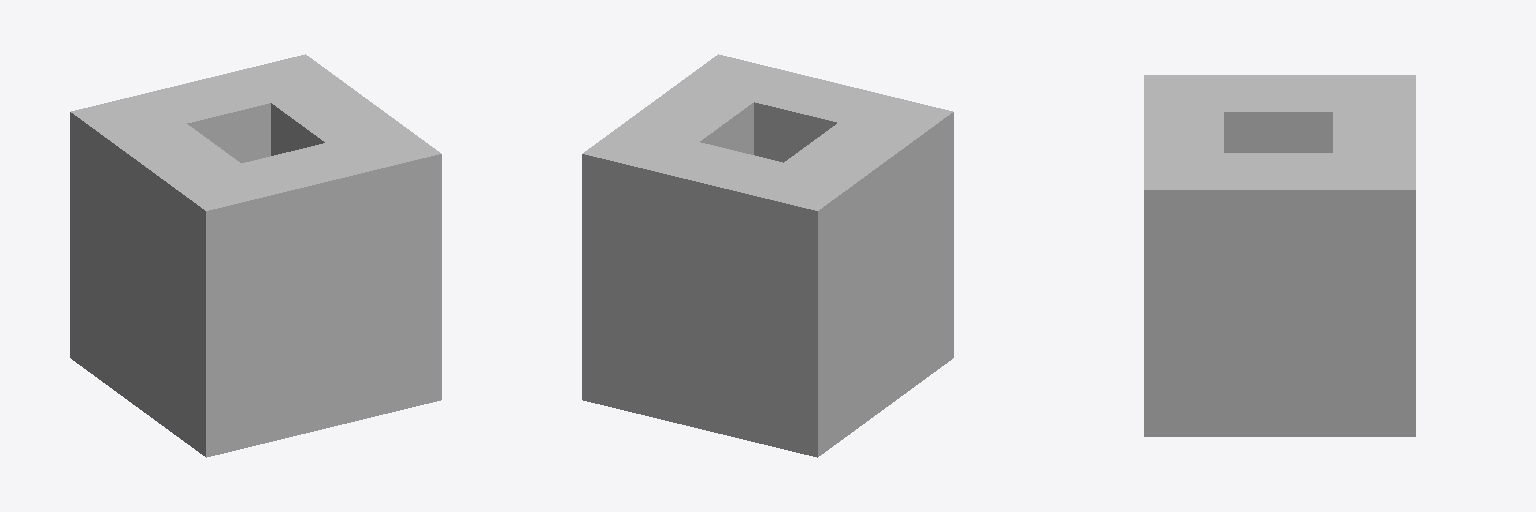
Rendered from simple_pit.obj.
3 views of the same model, side by side, from view 1: azimuth 30°, elevation 25°; view 2: azimuth 150°, elevation 25°; view 3: azimuth 270°, elevation 25° (orthographic).
Parts seen in each view (by area): view 1: Cube; view 2: Cube; view 3: Cube.
Part boxes in pixels (left/top/right/bottom): Cube: left=70, top=54, right=441, bottom=457; Cube: left=582, top=54, right=953, bottom=457; Cube: left=1144, top=75, right=1415, bottom=436.
Bounding box in the file's own units: 2 × 2 × 2.